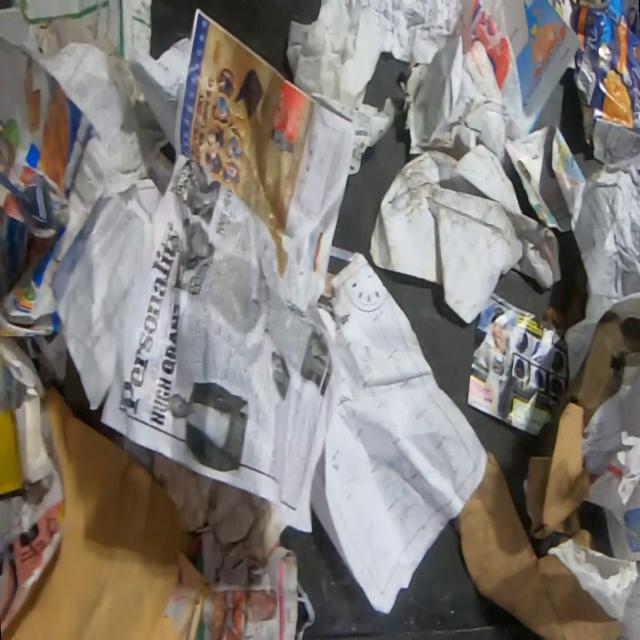cardboard: (0, 2, 172, 340), (0, 382, 213, 640), (450, 448, 627, 639), (542, 310, 640, 457), (569, 0, 639, 188), (521, 402, 592, 541), (0, 339, 60, 497)
soft_plastic: (467, 0, 524, 117)
